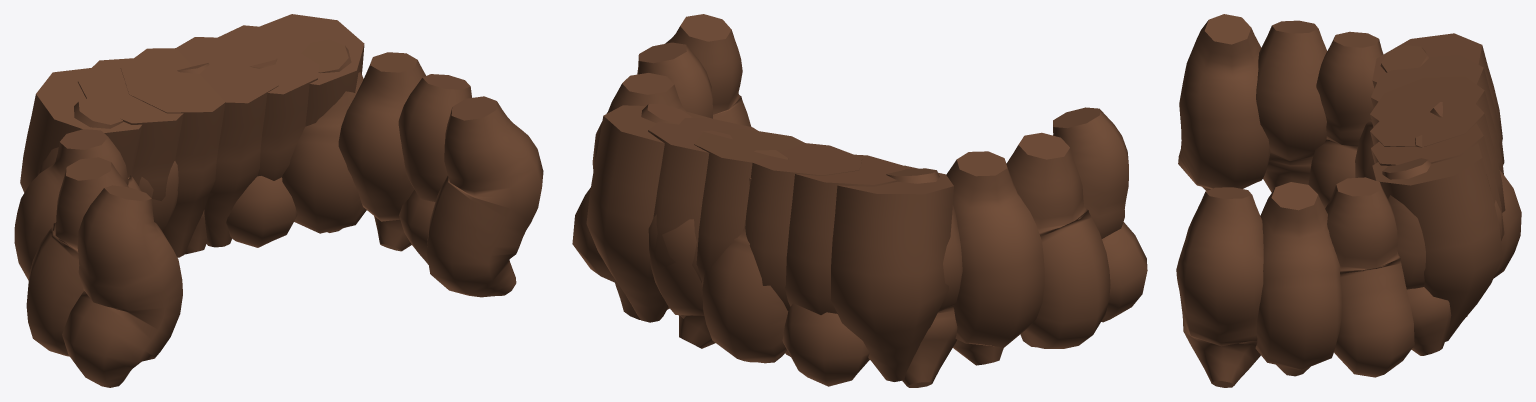
File: hair_wave_sway.glb
The picture shows the model from 3 angles, left to right: view 1: azimuth 30°, elevation 25°; view 2: azimuth 150°, elevation 25°; view 3: azimuth 270°, elevation 25°; orthographic projection. The views are drawn at different scales.
Parts seen in each view (by area): view 1: lock; view 2: lock; view 3: lock.
Boxes of the visible parts, x1,y1,x2,y2 form: lock: (14, 14, 543, 387); lock: (572, 14, 1147, 387); lock: (1176, 14, 1521, 387).
Size of the model in its own units: 2.71 by 1.1 by 1.77.
